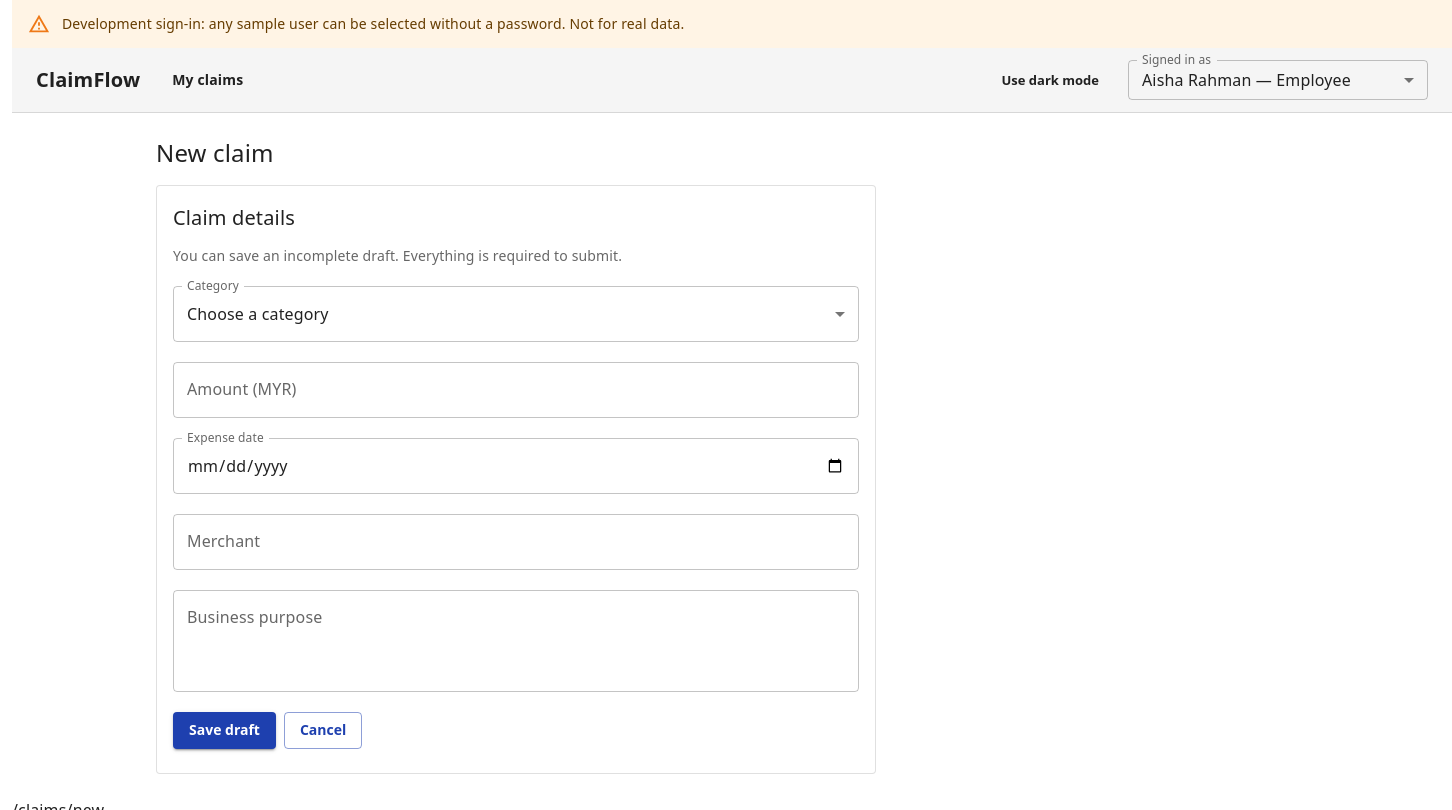
creating a draft › keeps what was typed after a server error and focuses the first problem
The width and height of the screenshot is (1452, 810).
Type "Taxi" into the field labelled "Merchant". click: (516, 542)
box: 173,514 -> 859,570
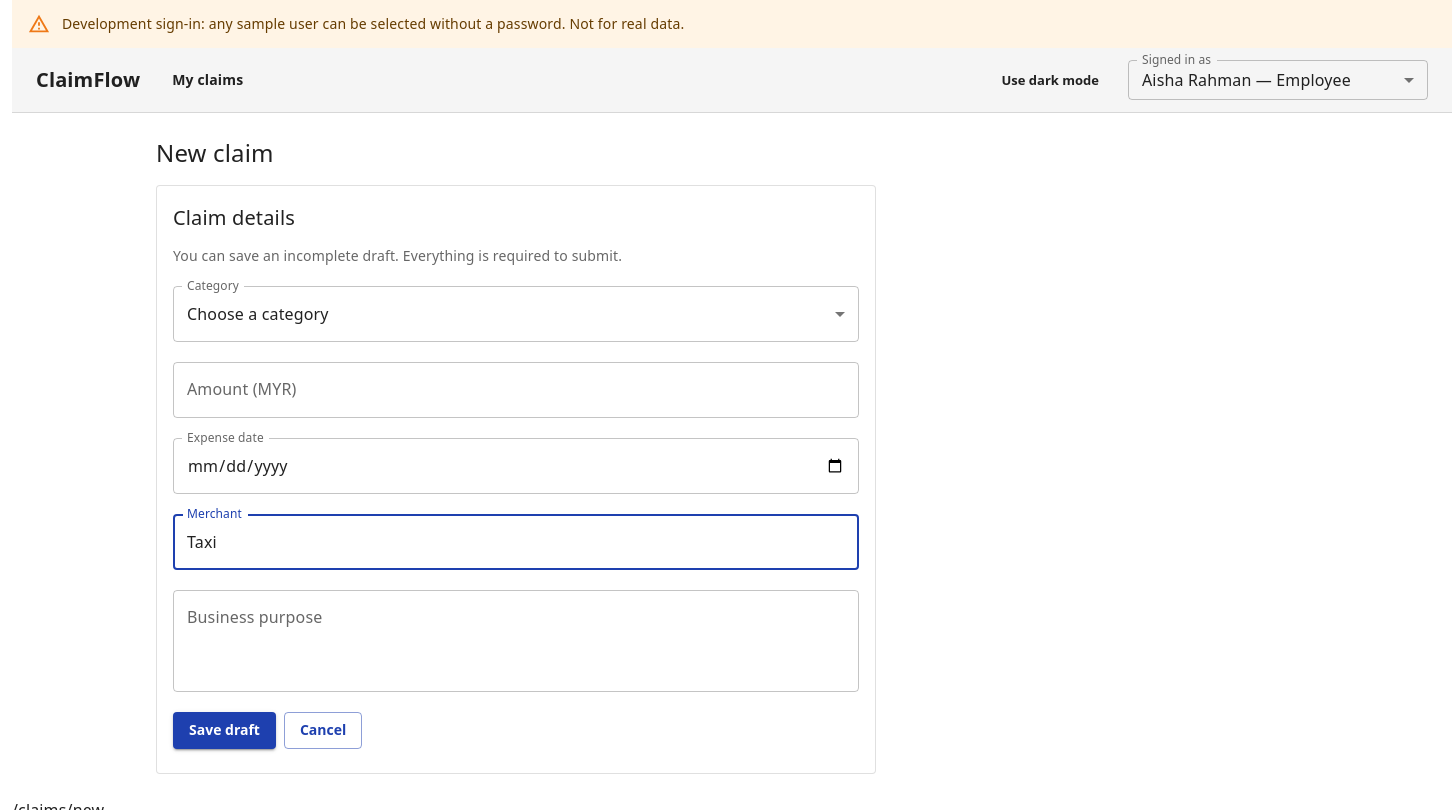
Click the button "Save draft". click: (224, 730)
box: 173,712 -> 276,748
(page scrolled)
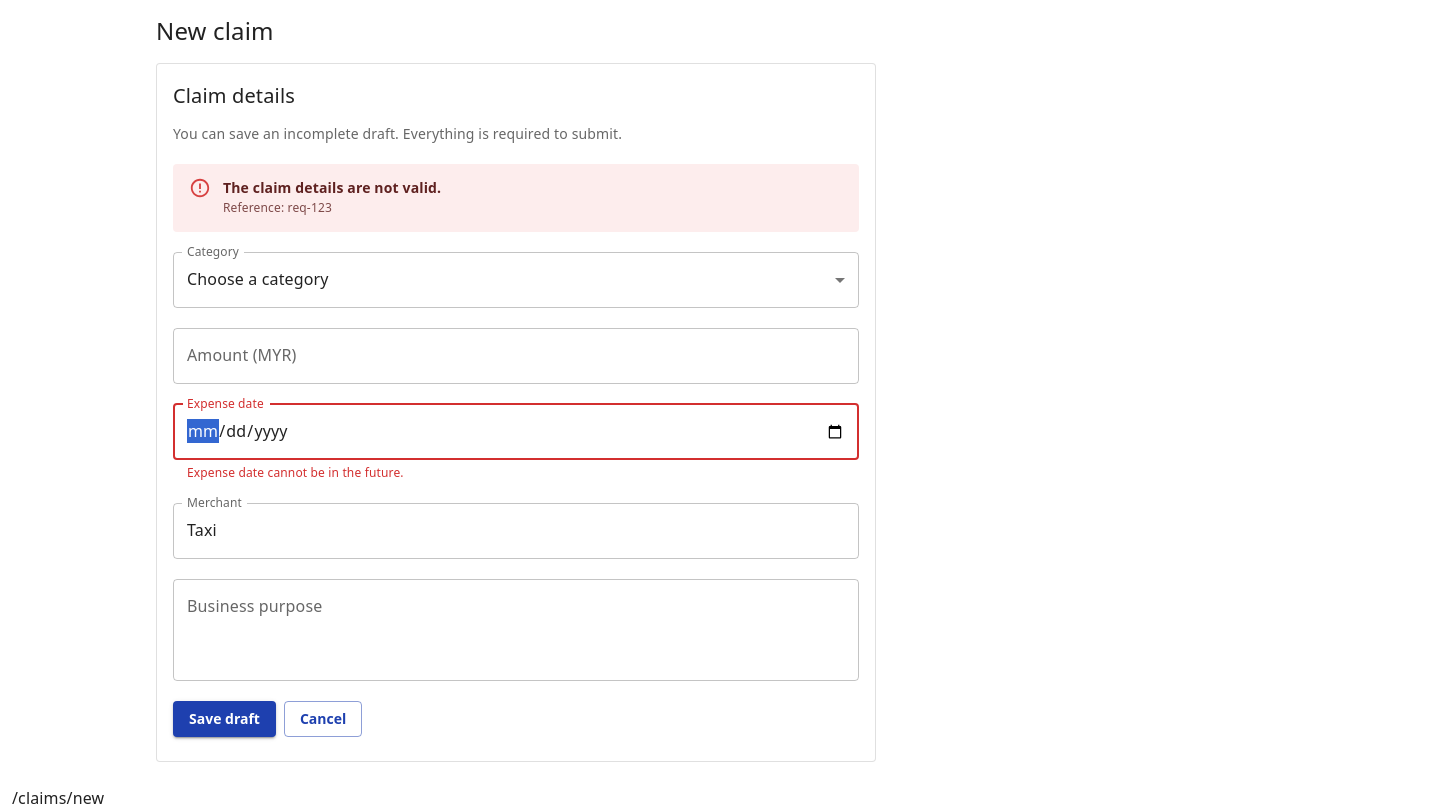
Expected: the text named "location" reads "/claims/new", 12,787 -> 104,809
Result: the text "Expense date cannot be in the future." is shown at 187,464 -> 404,481
